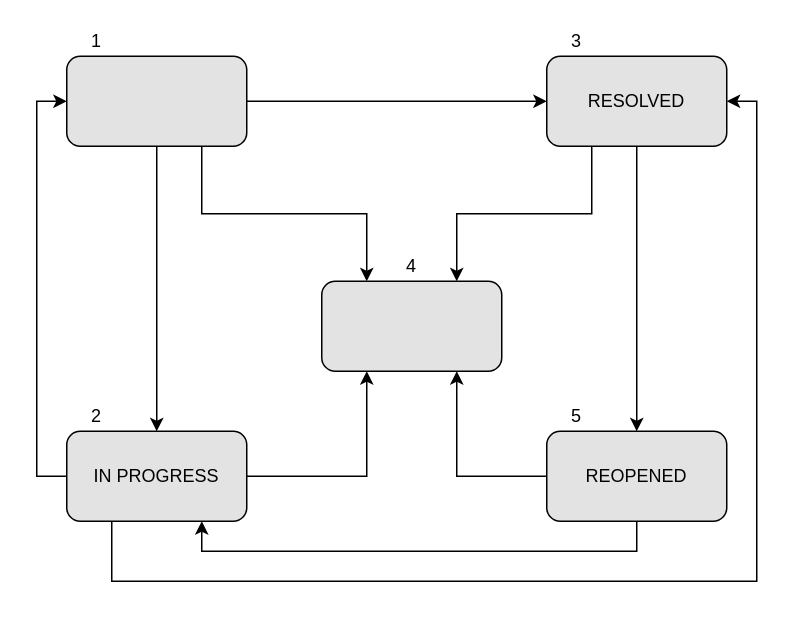
The diagram is 795 pixels wide and 620 high, and some of its shapes have lost their labels. Here are the shapes that lost their labels. From the top down, the box of each, then its label:
(65, 55, 247, 146): OPEN
(320, 280, 502, 371): CLOSED
